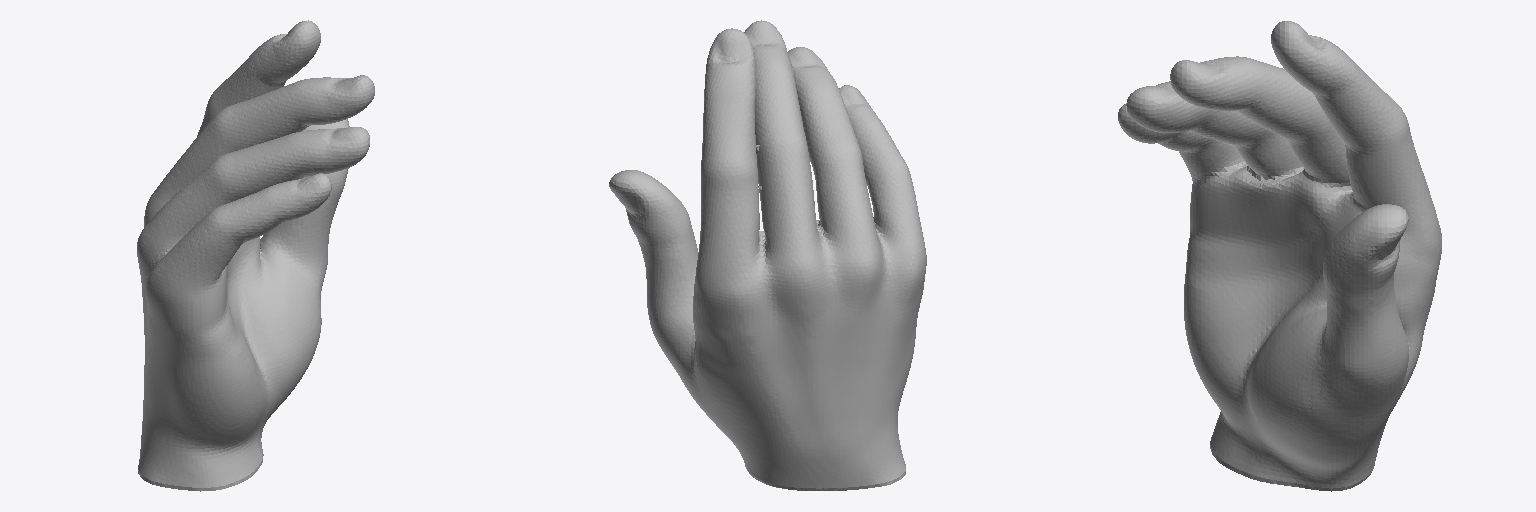
URDF robot description (root):
<robot name="root">
  <link name="link_001">
    <visual>
      <origin xyz="0 0 0" rpy="0 0 0"/>
      <geometry>
        <mesh filename="hand.obj" scale="1.2500E+00 1.2500E+00 1.2500E+00"/>
      </geometry>
      <material name="">
        <color rgba="7.50E-01 7.50E-01 7.50E-01 1"/>
      </material>
    </visual>
    <collision>
      <origin xyz="0 0 0" rpy="0 0 0"/>
      <geometry>
        <mesh filename="hand.obj" scale="1.2500E+00 1.2500E+00 1.2500E+00"/>
      </geometry>
    </collision>
    <inertial>
      <mass value="0.16"/> <!-- 质量：0.1kg -->
    </inertial>
  </link>
</robot>

--- Facts derived from the render (not from the file) ---
Views: 3 orthographic renders of the robot side by side, from view 1: azimuth 30°, elevation 25°; view 2: azimuth 150°, elevation 25°; view 3: azimuth 270°, elevation 25°.
Robot: root — 1 links, 0 joints (none); root link link_001; default pose: all joints at 0.
Visible links, largest first — view 1: link_001; view 2: link_001; view 3: link_001.
Link boxes in pixels (left/top/right/bottom): link_001: left=137, top=20, right=374, bottom=491; link_001: left=609, top=20, right=926, bottom=490; link_001: left=1118, top=21, right=1441, bottom=491.
Size in the robot's own frame: 0.1098 by 0.1032 by 0.1724 metres.
1 mesh visuals loaded from 1 distinct referenced files (1 OBJ).
